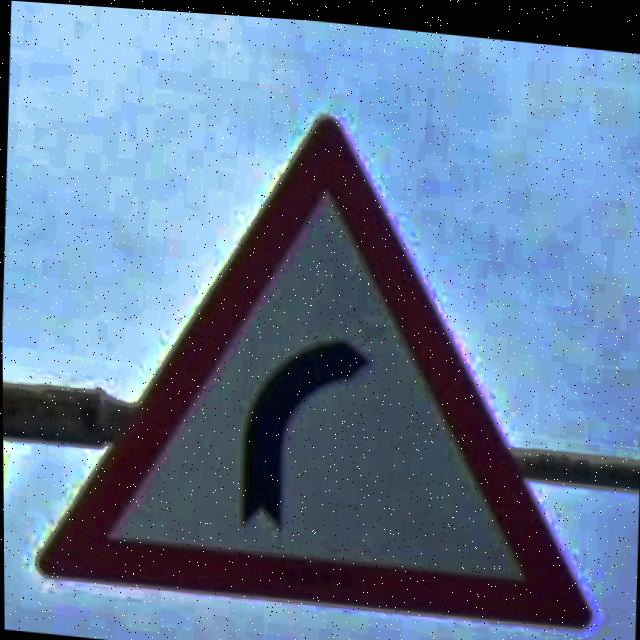rightbend: (38, 113, 595, 625)
